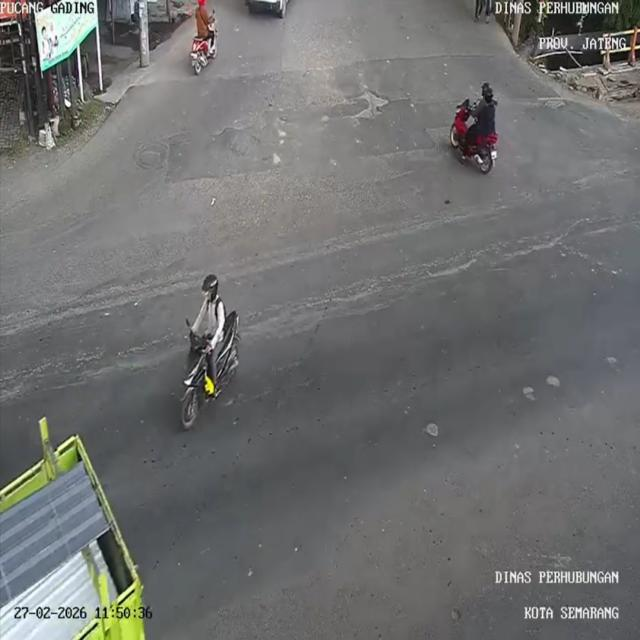motorcycle: (178, 316, 241, 420), (443, 98, 493, 178), (191, 28, 220, 76)
person: (191, 270, 220, 384), (482, 86, 498, 134), (197, 5, 213, 42), (471, 82, 484, 124)
rider_region: (171, 270, 246, 430), (447, 76, 498, 181), (189, 0, 220, 76)
